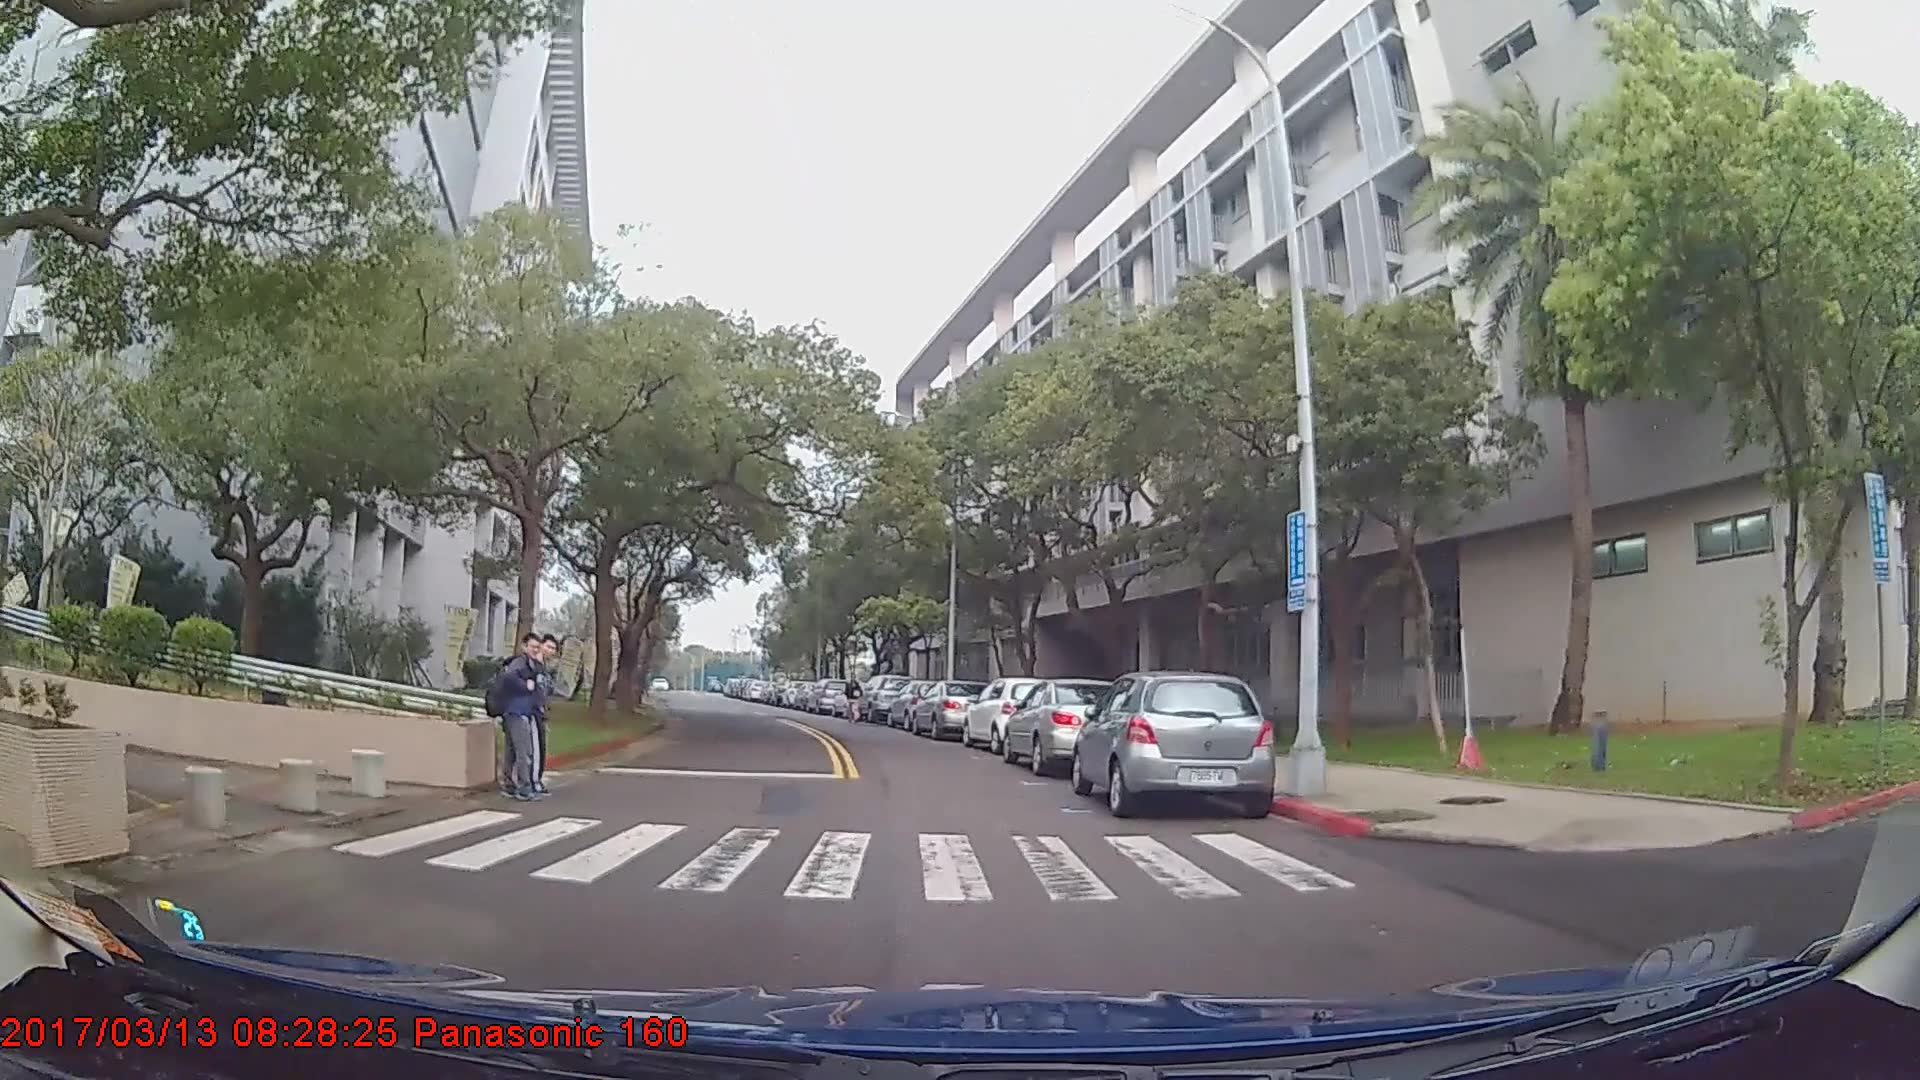pedestrian: (483, 628, 553, 811), (846, 676, 866, 726)
vehicle: (1071, 672, 1277, 821), (1001, 679, 1132, 778), (961, 676, 1060, 754), (909, 678, 995, 741), (856, 673, 916, 722), (806, 678, 848, 716)
